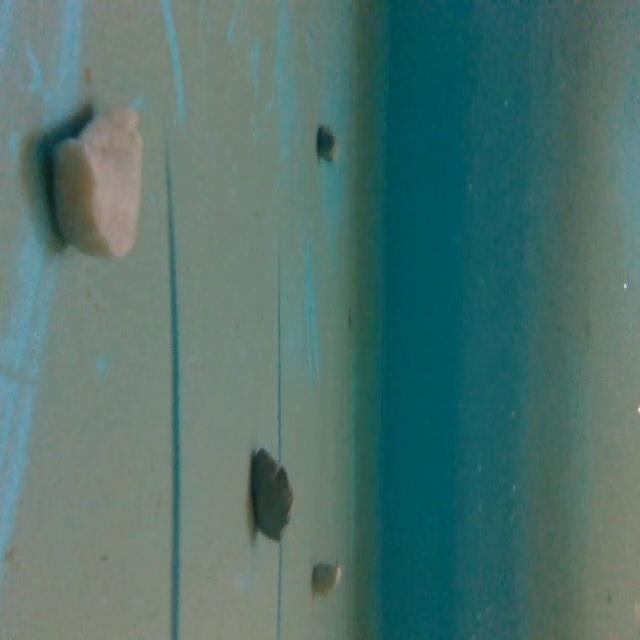rock: (40, 100, 152, 264), (252, 447, 293, 541), (311, 554, 347, 602), (316, 119, 342, 166)
